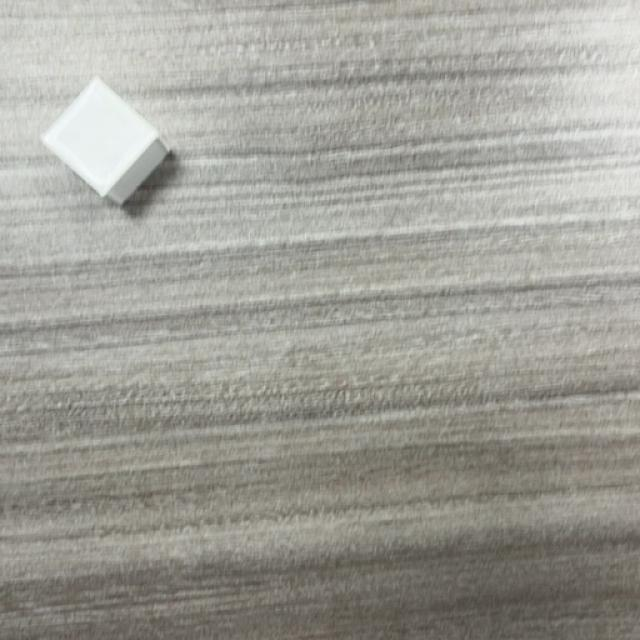Blanco: (40, 78, 174, 208)
